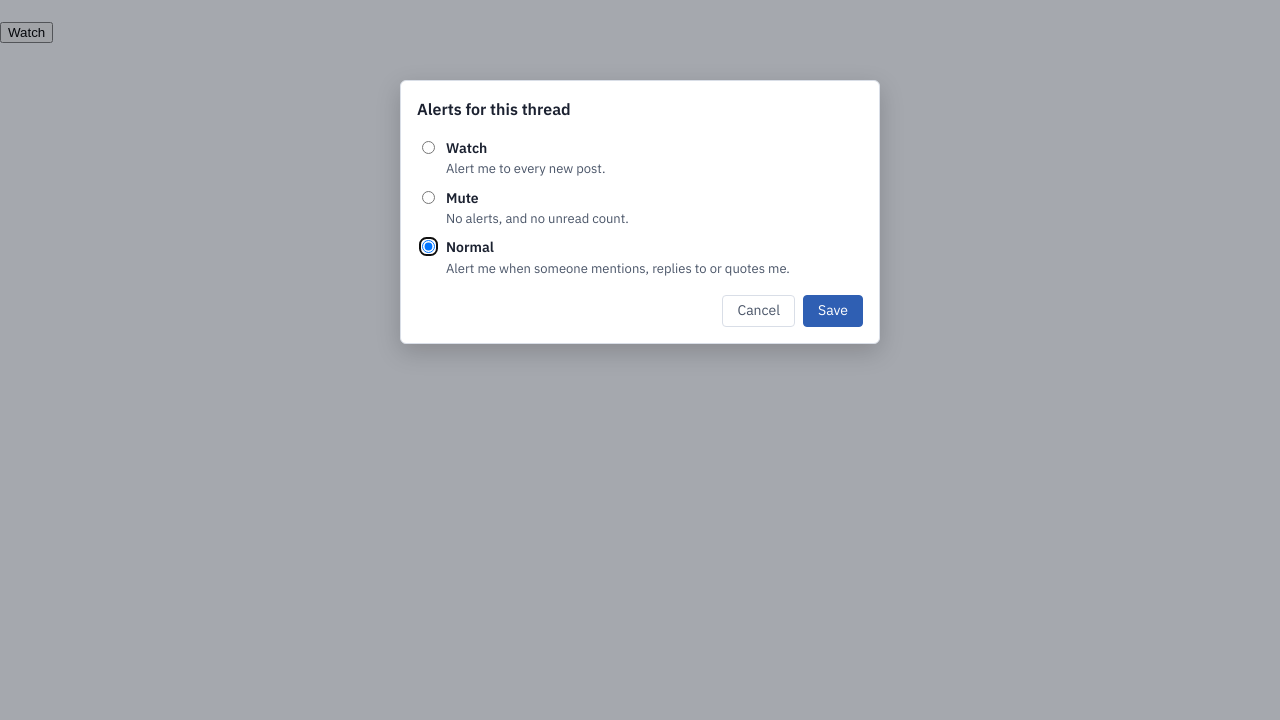
Test case: the watch dialog › takes an answer without a level as the server’s fault
The image size is (1280, 720).
Click the submit button at (833, 311), box top-left (803, 295), bottom-right (863, 327)
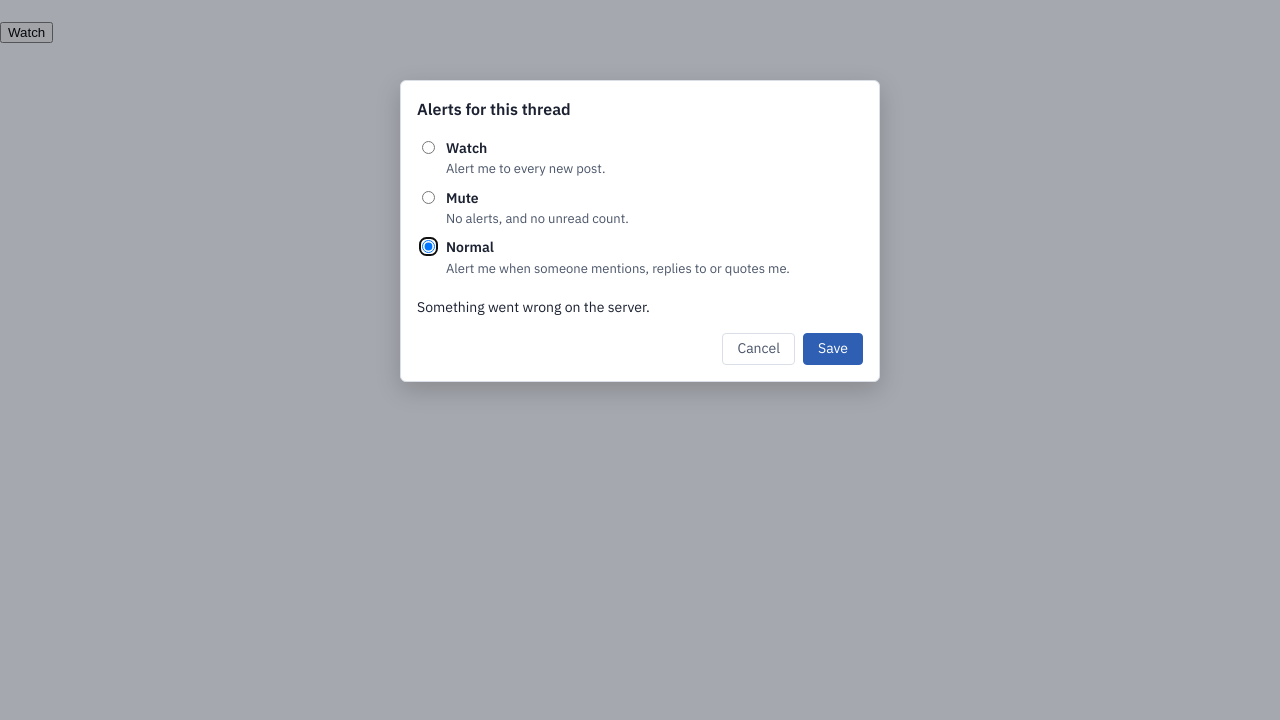
Check: the message "Something went wrong on the server." is shown, box top-left (417, 298), bottom-right (650, 316)
